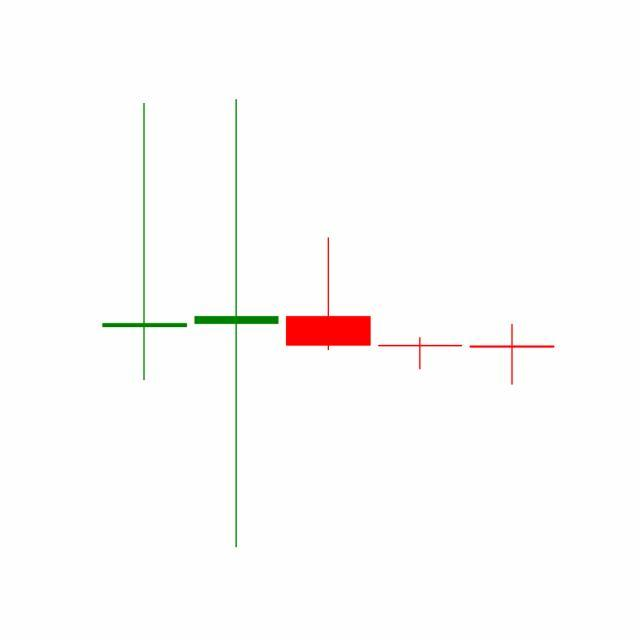Dragonfly Doji: (374, 337, 468, 371)
